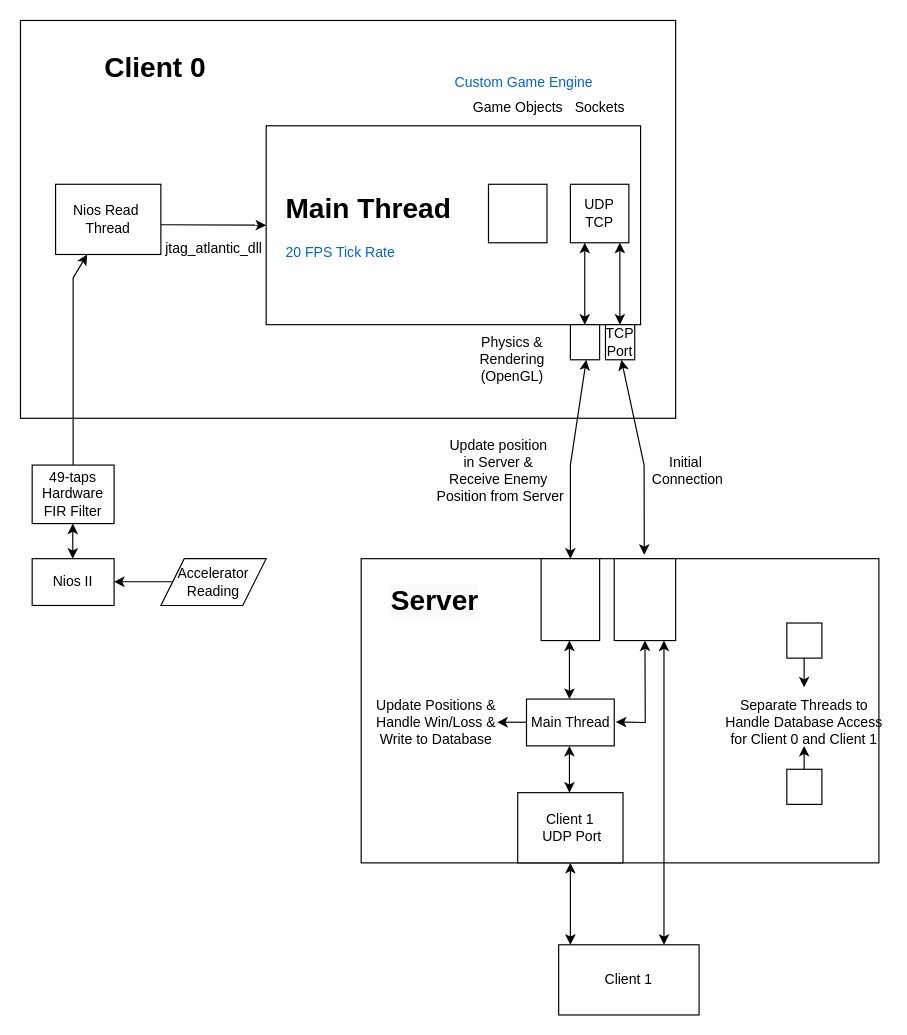
Some shapes in this 907 by 1035 pixel diagram are drawn without their labels. The shapes that lost their labels are listed below. From the top down, each one's centre as x and y in pixels, then its label:
point 517,213: Map & Ball
point 584,342: UDP Port
point 570,599: Client 0 UDP Port
point 644,599: Joint TCP Port with Handler
